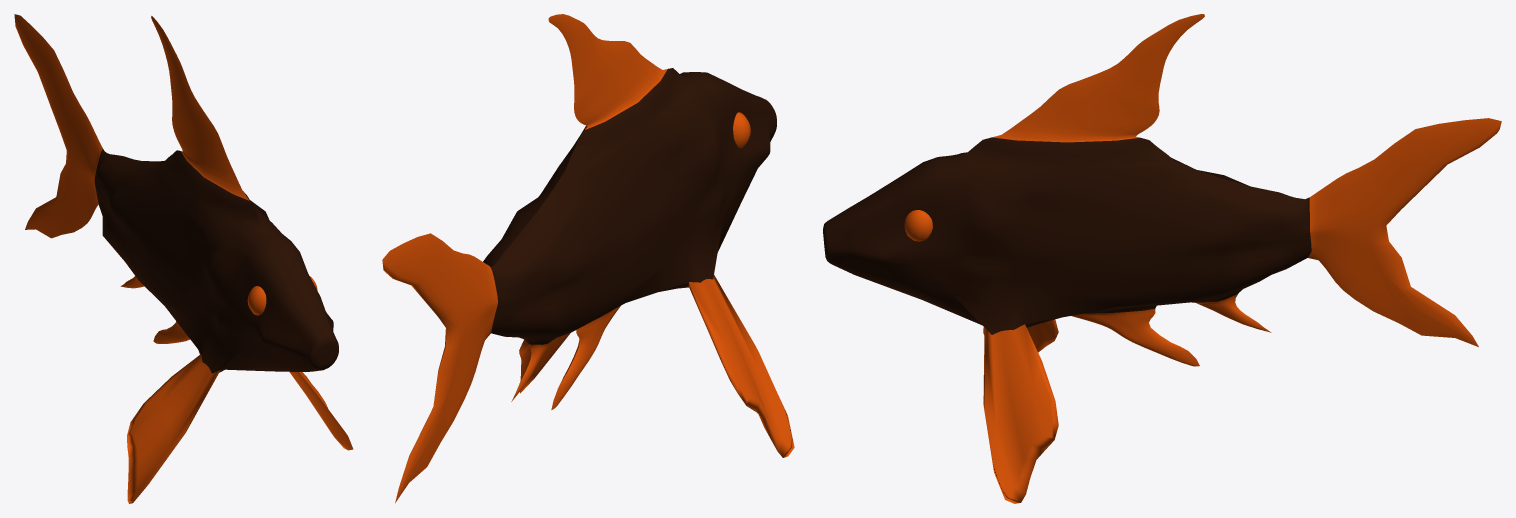
File: Fish medium size.fbx
3 views of the same model, side by side, from view 1: azimuth 30°, elevation 25°; view 2: azimuth 150°, elevation 25°; view 3: azimuth 270°, elevation 25° (orthographic). The views are drawn at different scales.
Visible parts, largest first — view 1: Fish_medium; view 2: Fish_medium; view 3: Fish_medium.
Boxes of the visible parts, box(x1,y1,x2,y2) form: Fish_medium: box(14, 14, 353, 503); Fish_medium: box(382, 14, 794, 503); Fish_medium: box(823, 14, 1501, 503).
Size of the model in its own units: 41.25 by 71.08 by 101.
